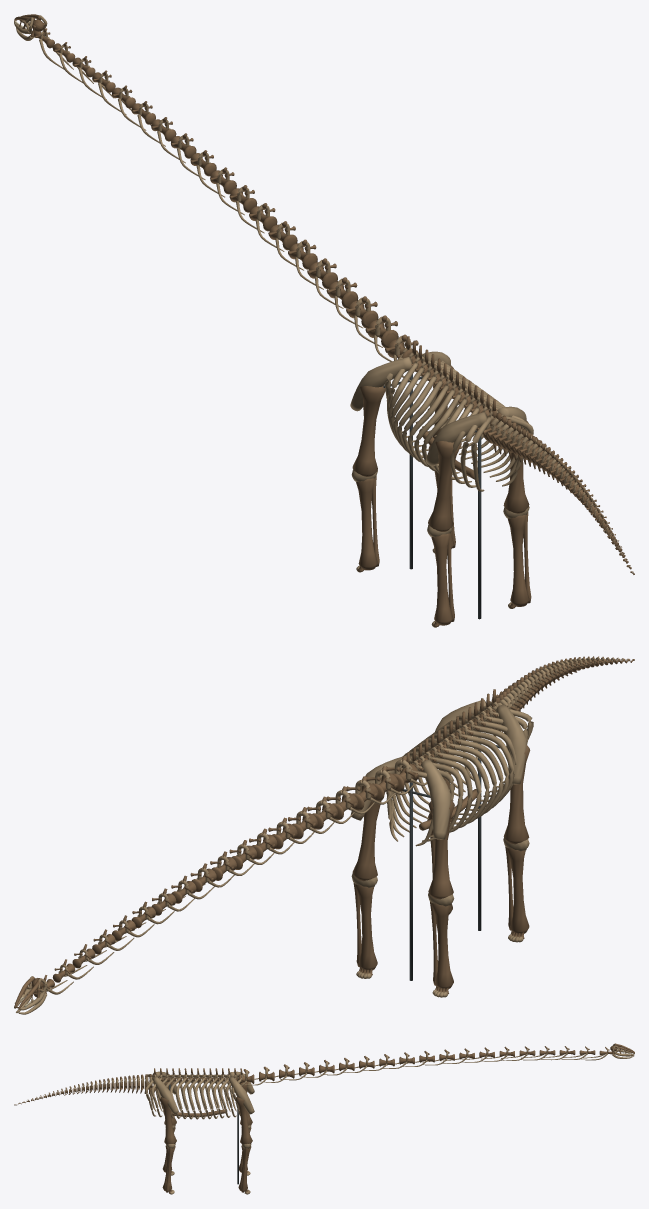
3 views of the same model, one above another, from view 1: azimuth 30°, elevation 25°; view 2: azimuth 150°, elevation 25°; view 3: azimuth 270°, elevation 25° (orthographic). The views are drawn at different scales.
Parts seen in each view (by area): view 1: D01_SPEC_Fossil umber_export, D01_SPEC_Fossil ridge_export, D01_SPEC_Mount steel_export; view 2: D01_SPEC_Fossil umber_export, D01_SPEC_Fossil ridge_export, D01_SPEC_Mount steel_export; view 3: D01_SPEC_Fossil ridge_export, D01_SPEC_Fossil umber_export.
Boxes of the visible parts, x1,y1,x2,y2 form: D01_SPEC_Fossil umber_export: (14, 14, 634, 627); D01_SPEC_Fossil ridge_export: (14, 15, 633, 627); D01_SPEC_Mount steel_export: (383, 374, 481, 619); D01_SPEC_Fossil umber_export: (14, 656, 634, 1008); D01_SPEC_Fossil ridge_export: (14, 657, 633, 1014); D01_SPEC_Mount steel_export: (402, 731, 500, 980); D01_SPEC_Fossil ridge_export: (19, 1043, 634, 1194); D01_SPEC_Fossil umber_export: (14, 1044, 634, 1193).
Size of the model in its own units: 2.42 by 6.4 by 25.81.
